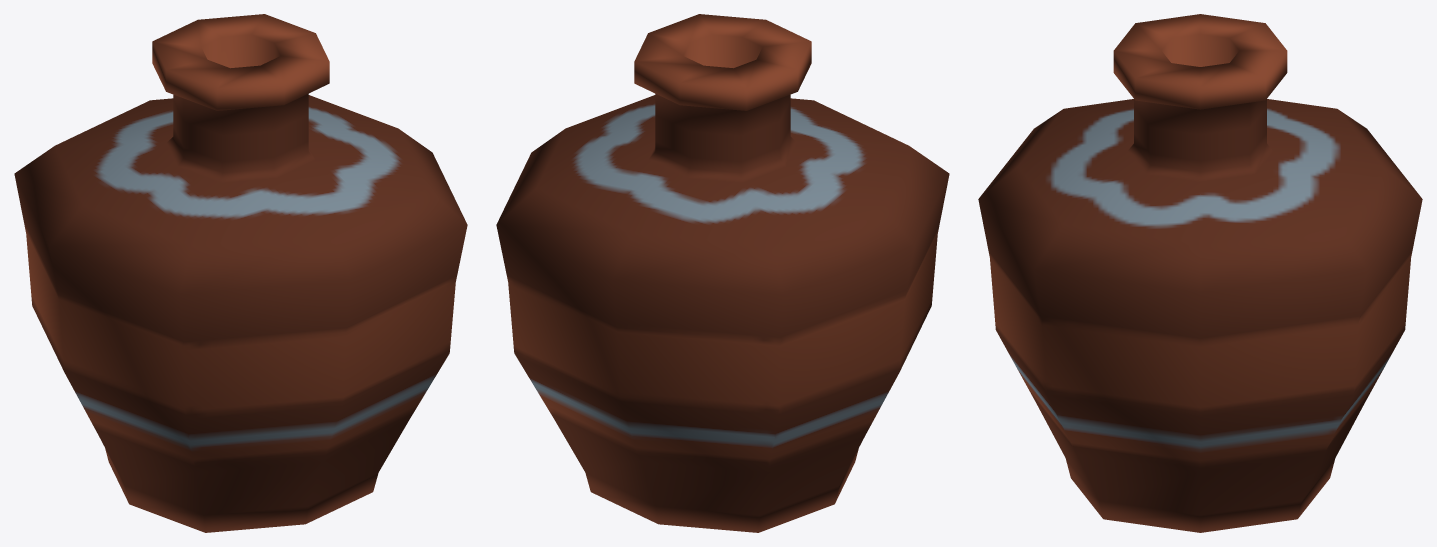
File: pot.fbx
The picture shows the model from 3 angles, left to right: view 1: azimuth 30°, elevation 25°; view 2: azimuth 150°, elevation 25°; view 3: azimuth 270°, elevation 25°; orthographic projection.
Visible parts, largest first — view 1: polySurface314; view 2: polySurface314; view 3: polySurface314.
Boxes of the visible parts, left/top/right/bottom form: polySurface314: left=14, top=14, right=467, bottom=532; polySurface314: left=496, top=14, right=949, bottom=532; polySurface314: left=978, top=14, right=1422, bottom=532.
Bounding box in the file's own units: 0.45 × 0.4777 × 0.45.
1 material, 1 textured.
